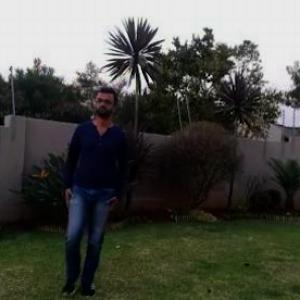follow: (53, 79, 132, 299)
